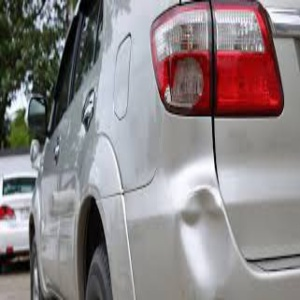bumper: (163, 176, 246, 291)
